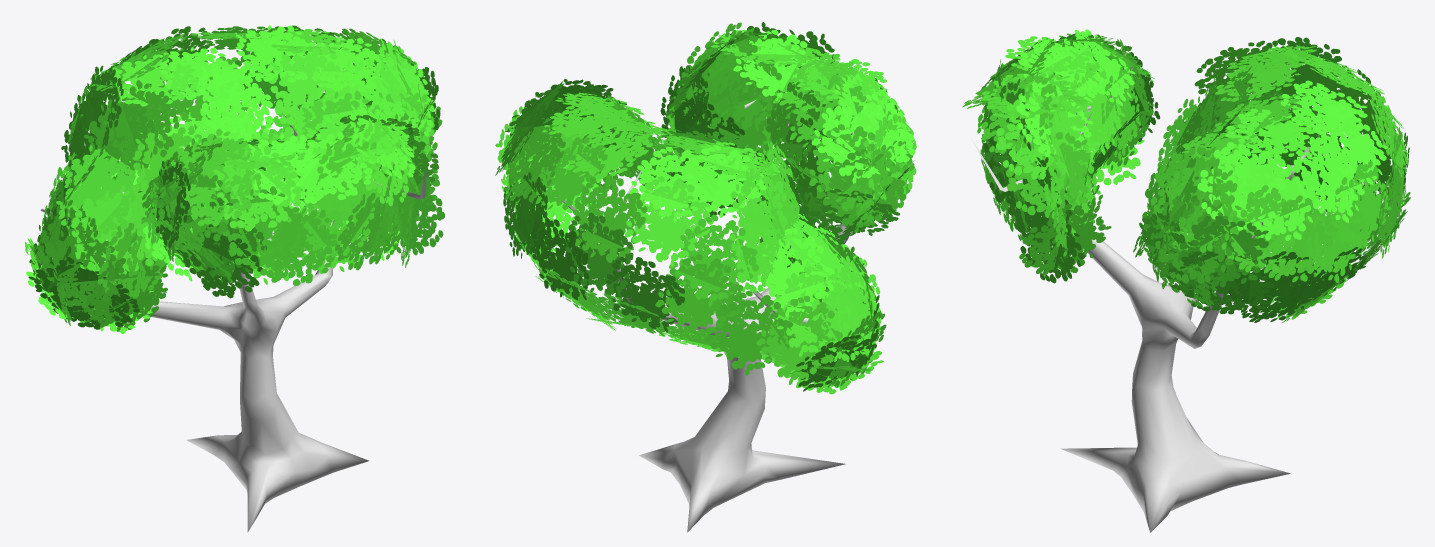
File: Tree2.fbx
3 renders of one model, left to right at view 1: azimuth 30°, elevation 25°; view 2: azimuth 150°, elevation 25°; view 3: azimuth 270°, elevation 25°, orthographic. The views are drawn at different scales.
Parts seen in each view (by area): view 1: Tree2; view 2: Tree2; view 3: Tree2.
Boxes of the visible parts, x1,y1,x2,y2 form: Tree2: [25, 25, 444, 532]; Tree2: [495, 22, 916, 532]; Tree2: [962, 29, 1410, 532].
Bounding box in the file's own units: 6.77 × 7.04 × 7.1.
